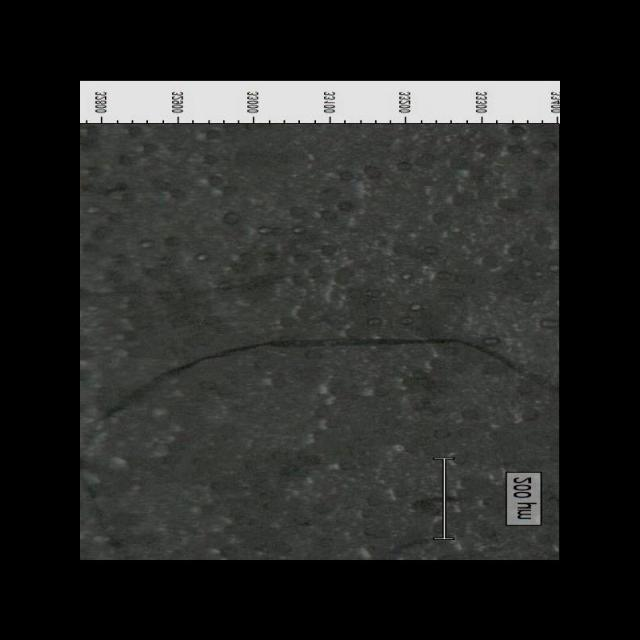Fibre: (94, 329, 556, 425)
